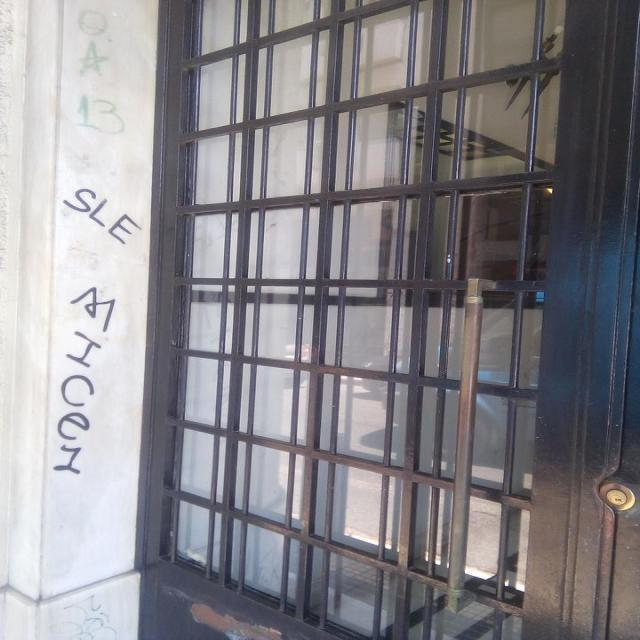nonspitting: (51, 288, 117, 475), (76, 11, 128, 138), (59, 188, 140, 245)
